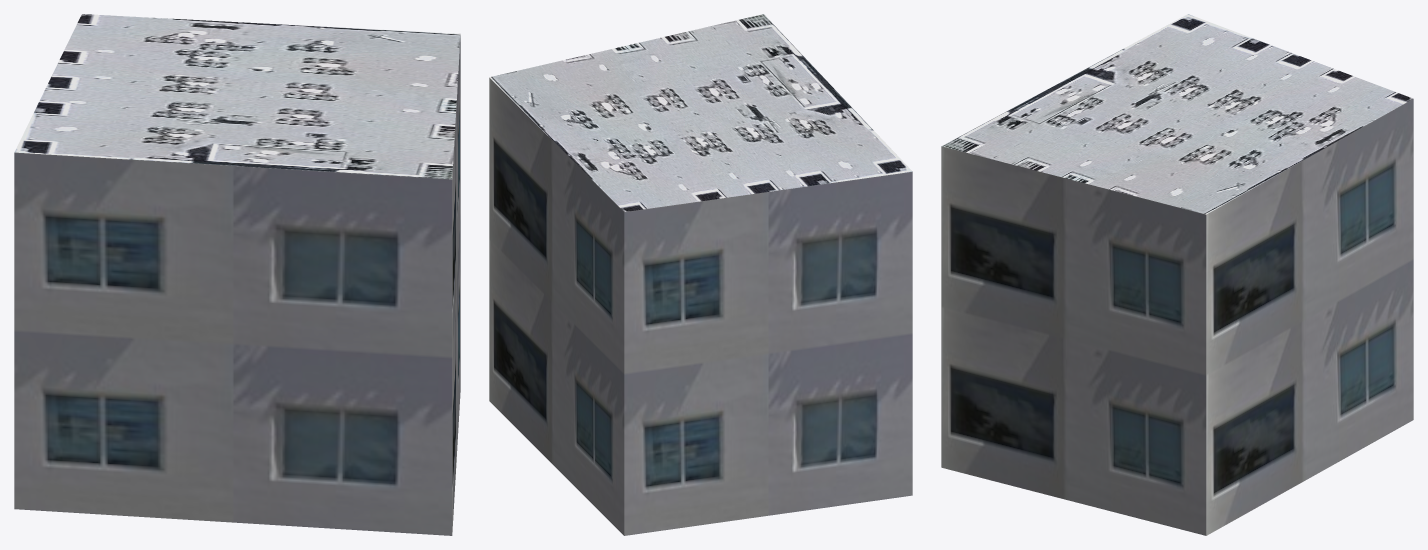
The model's file is ResTex__3557.fbx.
3 views of the same model, side by side, from view 1: azimuth 30°, elevation 25°; view 2: azimuth 150°, elevation 25°; view 3: azimuth 270°, elevation 25° (orthographic). The views are drawn at different scales.
Parts seen in each view (by area): view 1: CityEngineMaterial_10_m, CityEngineMaterial_m; view 2: CityEngineMaterial_10_m, CityEngineMaterial_m; view 3: CityEngineMaterial_10_m, CityEngineMaterial_m.
Boxes of the visible parts, x1,y1,x2,y2 form: CityEngineMaterial_10_m: [14, 36, 460, 535]; CityEngineMaterial_m: [14, 14, 460, 179]; CityEngineMaterial_10_m: [489, 78, 912, 535]; CityEngineMaterial_m: [489, 14, 912, 211]; CityEngineMaterial_10_m: [941, 99, 1413, 535]; CityEngineMaterial_m: [942, 14, 1412, 214].
Bounding box in the file's own units: 8.03 × 6 × 7.99.
Materials: 2 (2 with a texture image).
